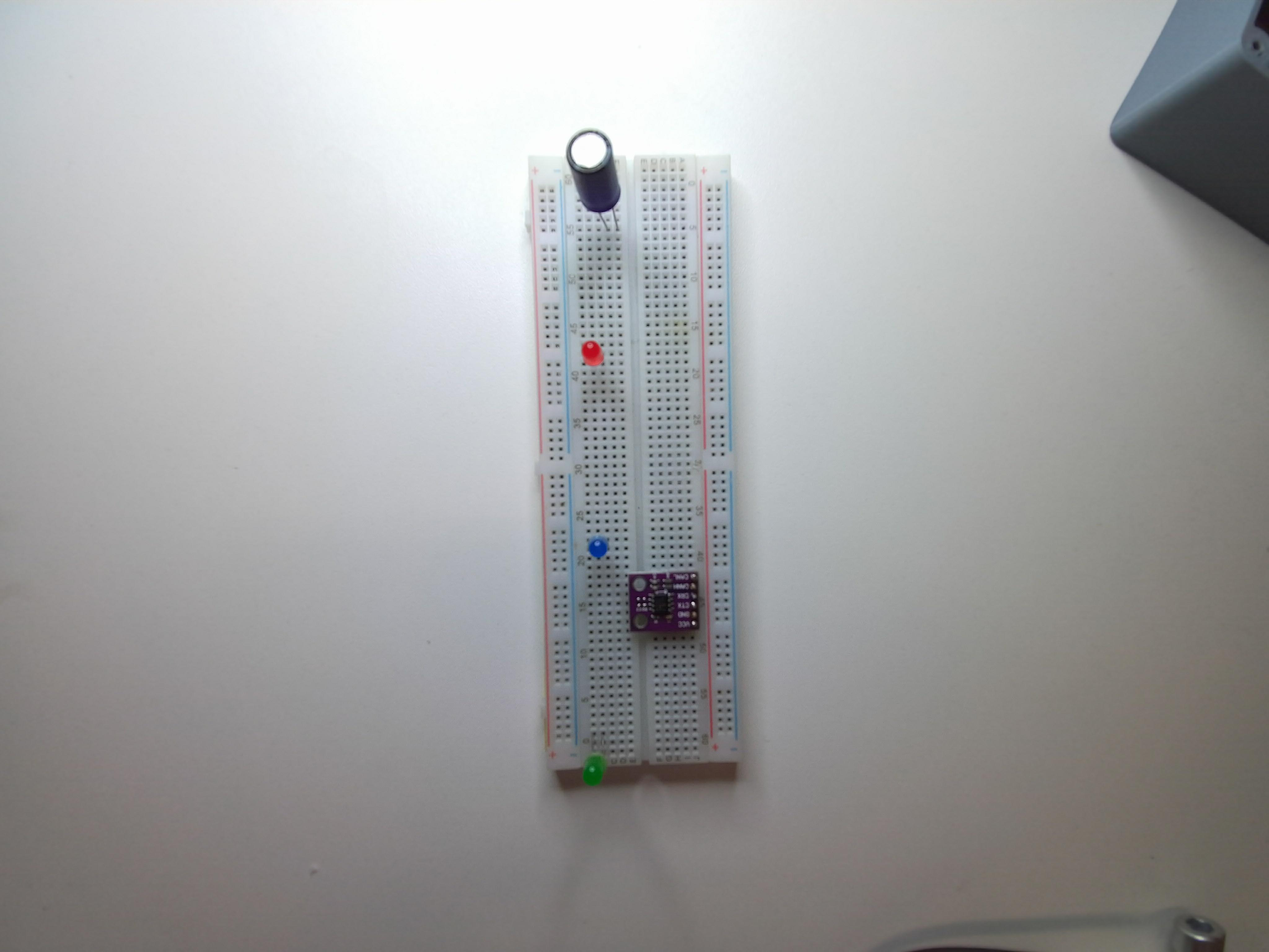base: (520, 134, 744, 799)
blue-led: (584, 533, 610, 563)
capacitor: (566, 129, 624, 215)
green-led: (579, 750, 608, 794)
purple-board: (627, 573, 699, 641)
red-led: (578, 335, 607, 371)
